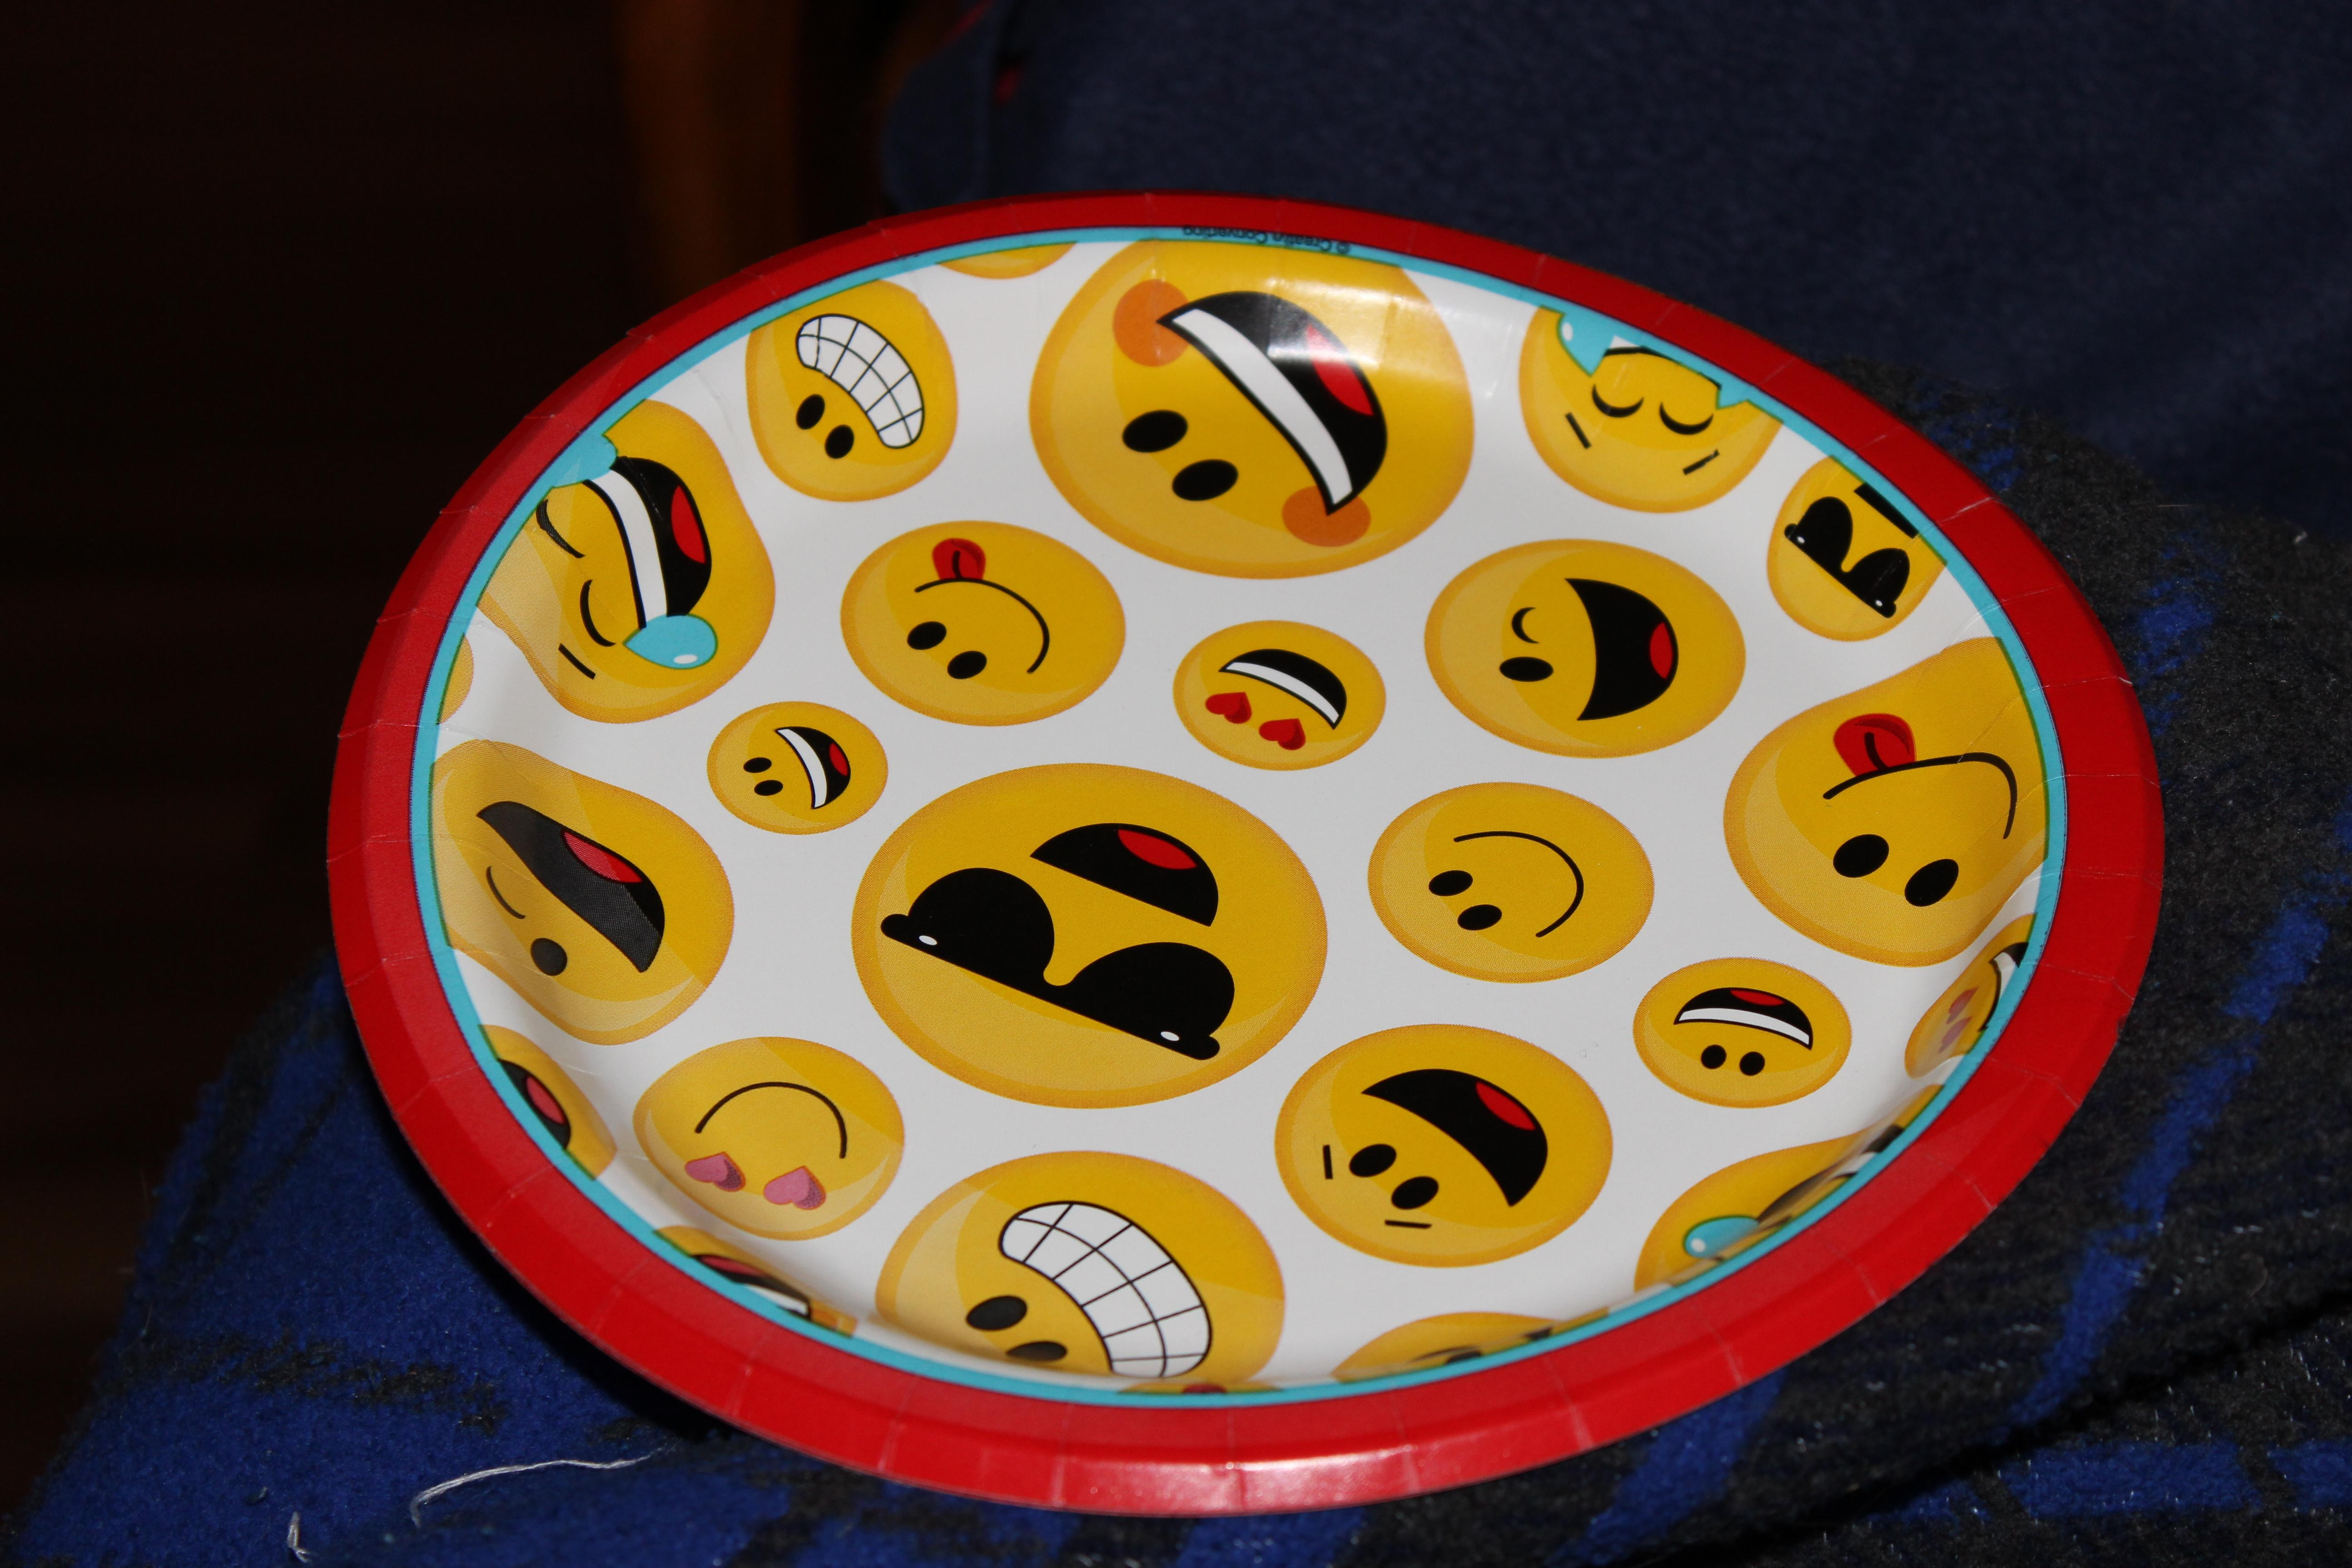paperPlate: (304, 149, 2229, 1551)
